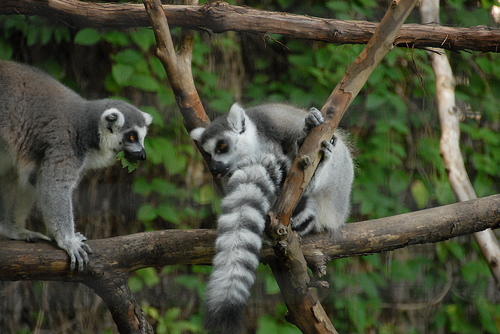cat: (188, 102, 357, 332), (0, 57, 156, 276)
